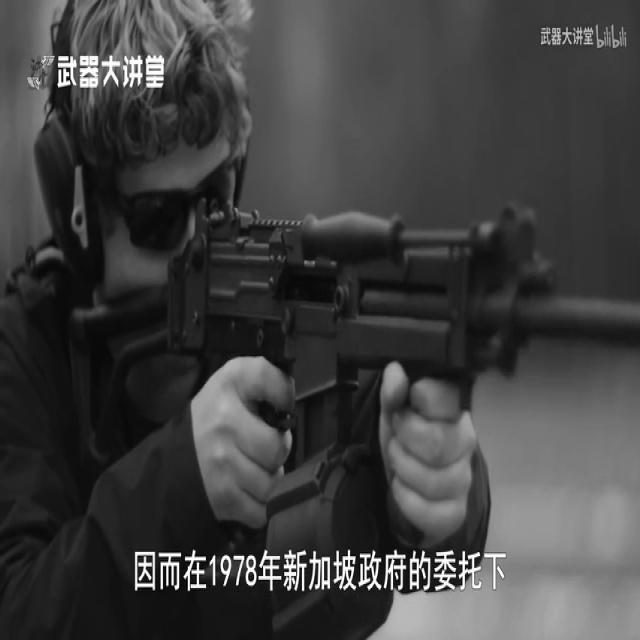Sniper: (7, 141, 640, 633)
